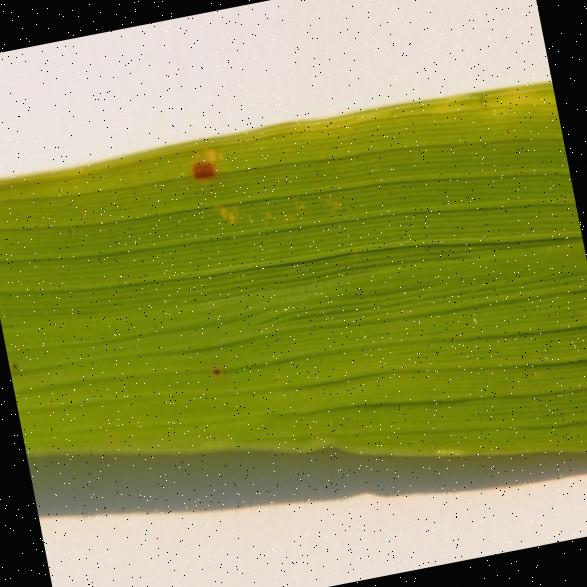Brown_Spot: (171, 139, 233, 212)
